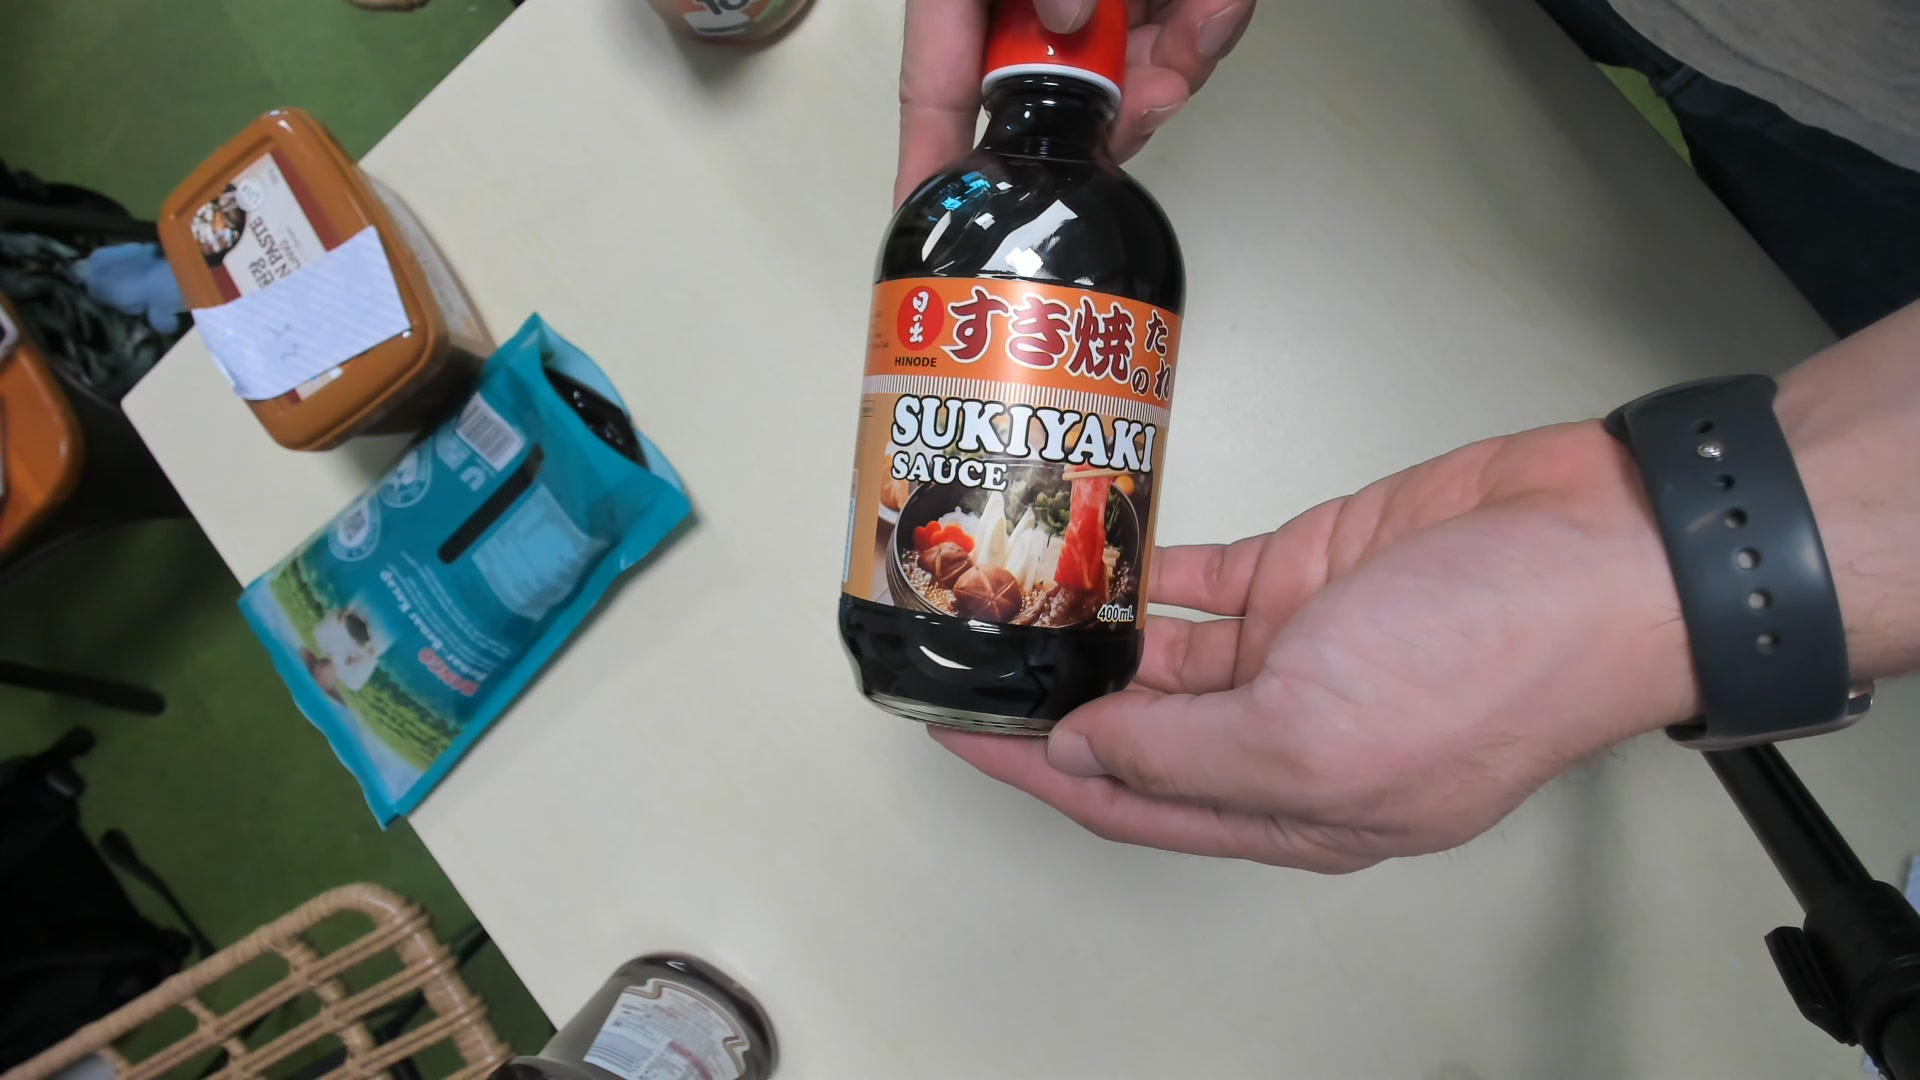OtherSauceDressing_400-499g_NonHalal_NonHealthy: (833, 7, 1191, 741)
